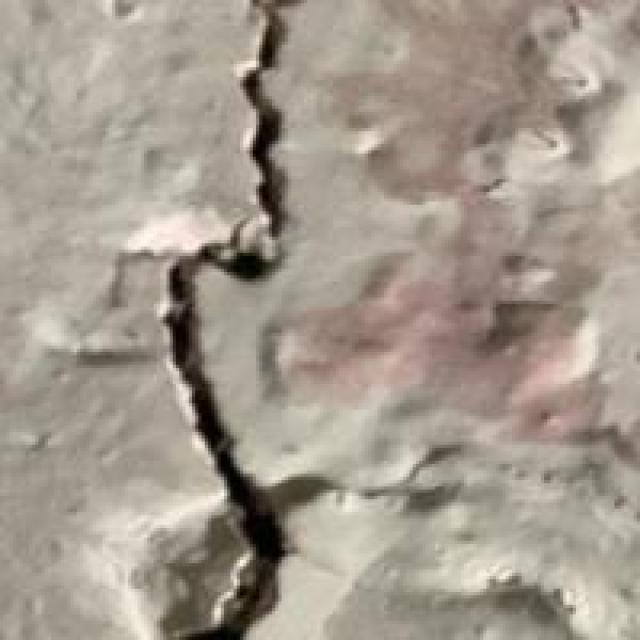crack: (122, 0, 374, 637)
